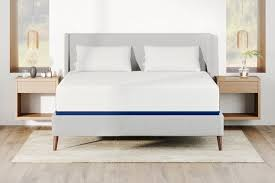bed-matress: (55, 68, 221, 113)
